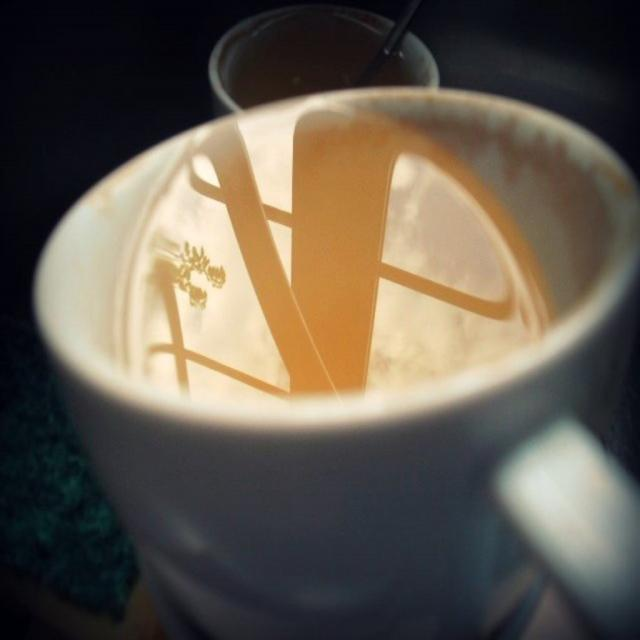Coffee: (122, 106, 556, 402)
